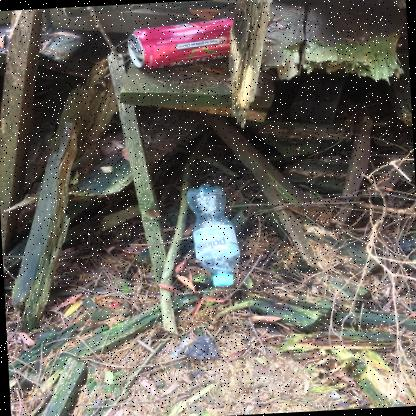Clear plastic bottle: (186, 183, 240, 286)
Drink can: (127, 17, 233, 69)
Plastic bottle cap: (212, 276, 233, 286)
Pop tab: (128, 41, 139, 55)
